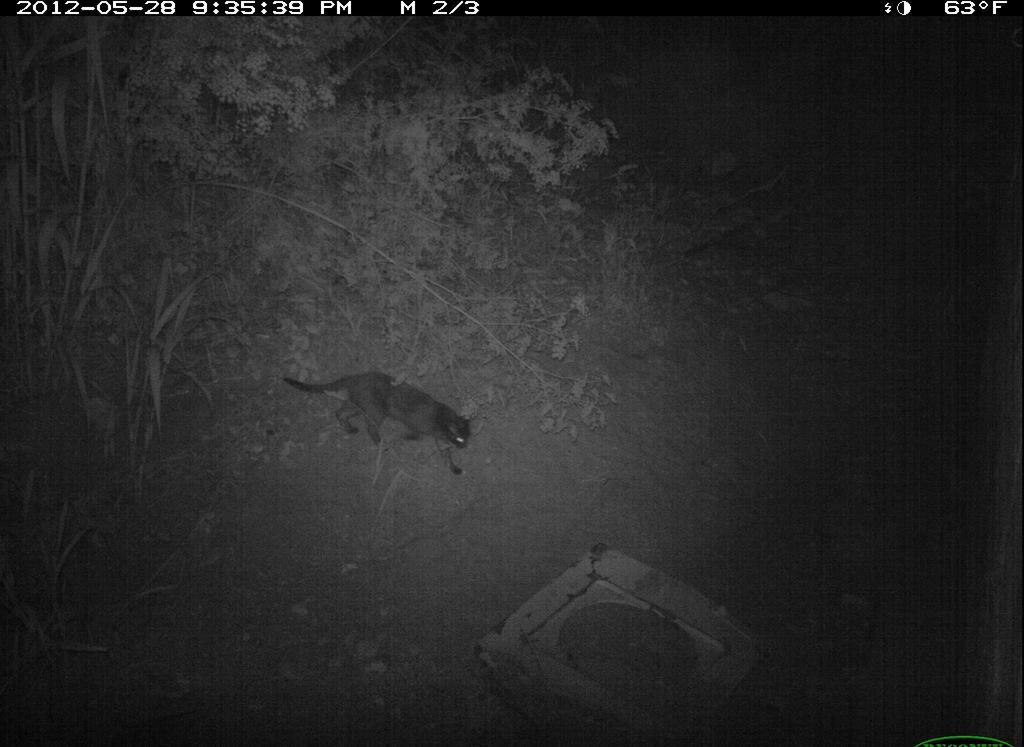cat: (274, 358, 504, 483)
